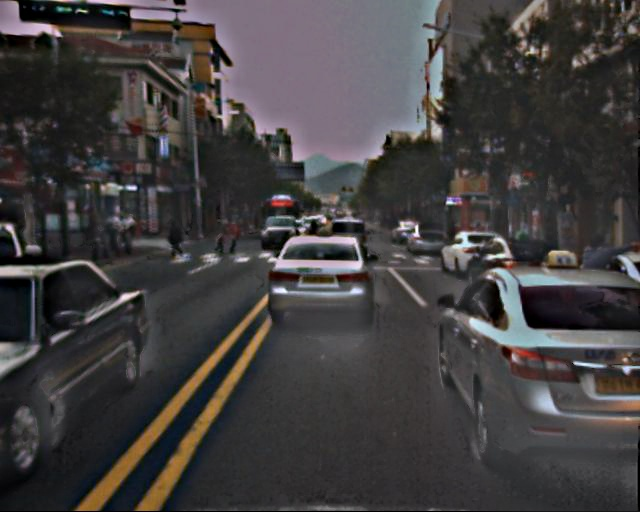person: (579, 237, 622, 342), (89, 206, 138, 251), (166, 219, 183, 260), (228, 217, 242, 252), (217, 230, 227, 254)
